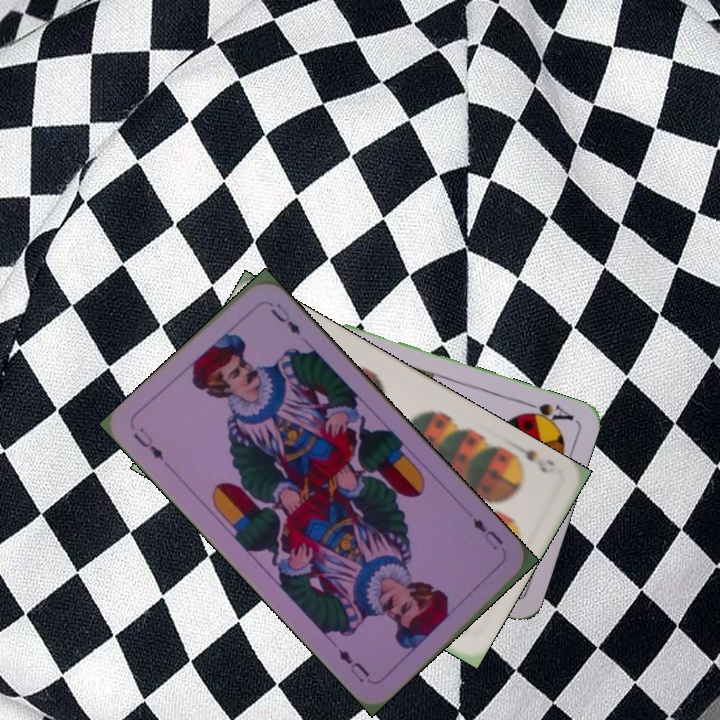EU: (468, 514, 506, 553), (129, 423, 166, 463)
S9: (508, 438, 559, 477)
SA: (515, 396, 576, 428)
